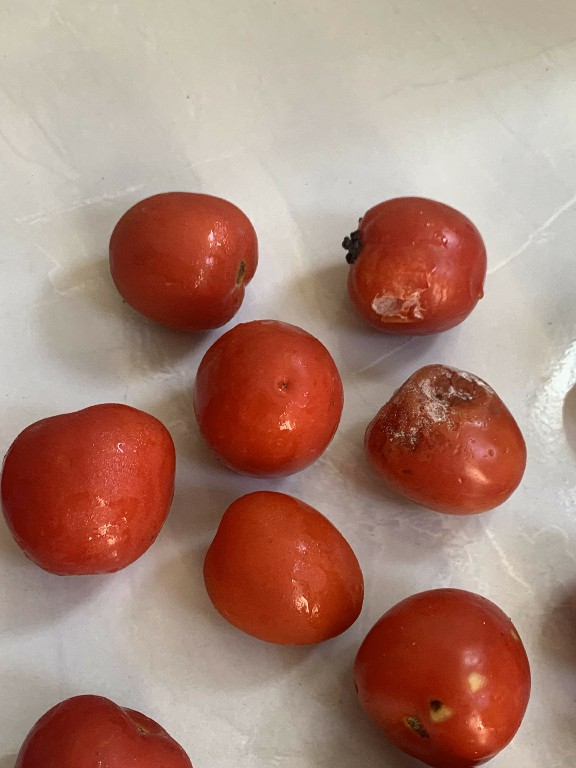NG: (344, 577, 547, 764), (361, 332, 532, 523), (328, 180, 504, 347)
OK: (0, 387, 182, 601), (195, 479, 371, 655), (99, 170, 267, 347), (184, 312, 354, 482)
